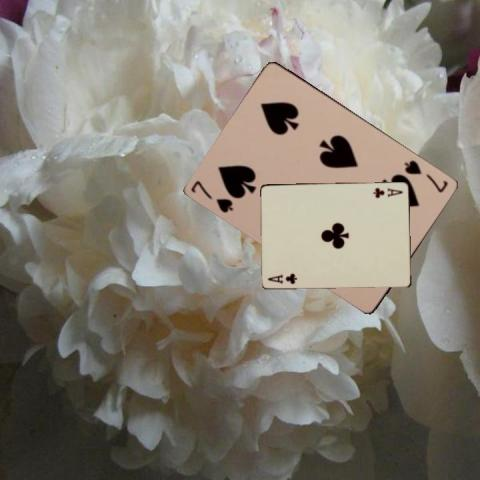7s: (402, 156, 450, 194), (188, 177, 235, 215)
Ac: (370, 184, 404, 198), (265, 271, 299, 285)
